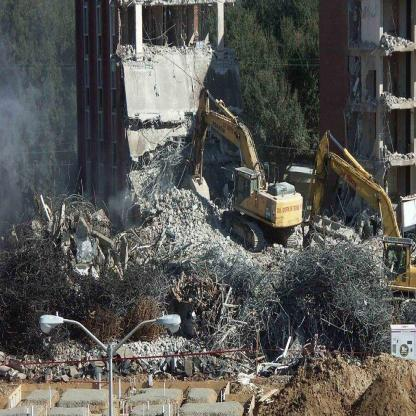rebar: (2, 228, 234, 355), (236, 233, 390, 357), (138, 324, 164, 341)
